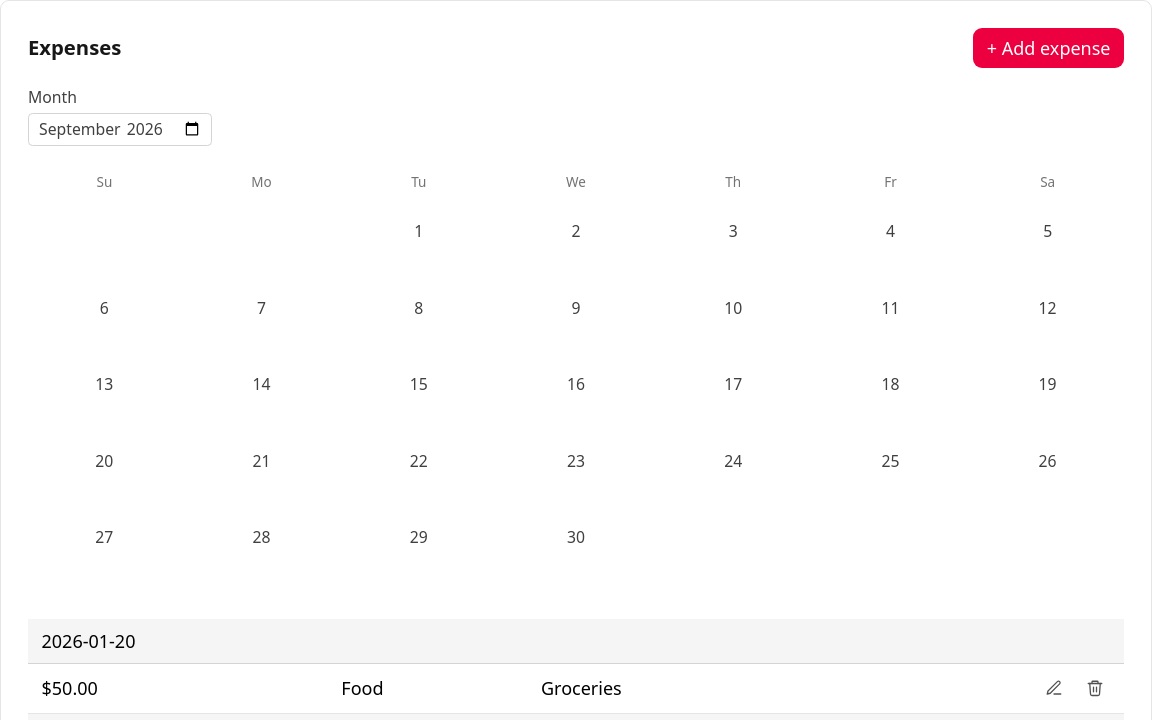
Test: ExpenseLog › saves an edited expense via PATCH, through the edit modal
Replace the text in the field labelled "Month" with "2026-01": (120, 129) left=28, top=113, right=212, bottom=146
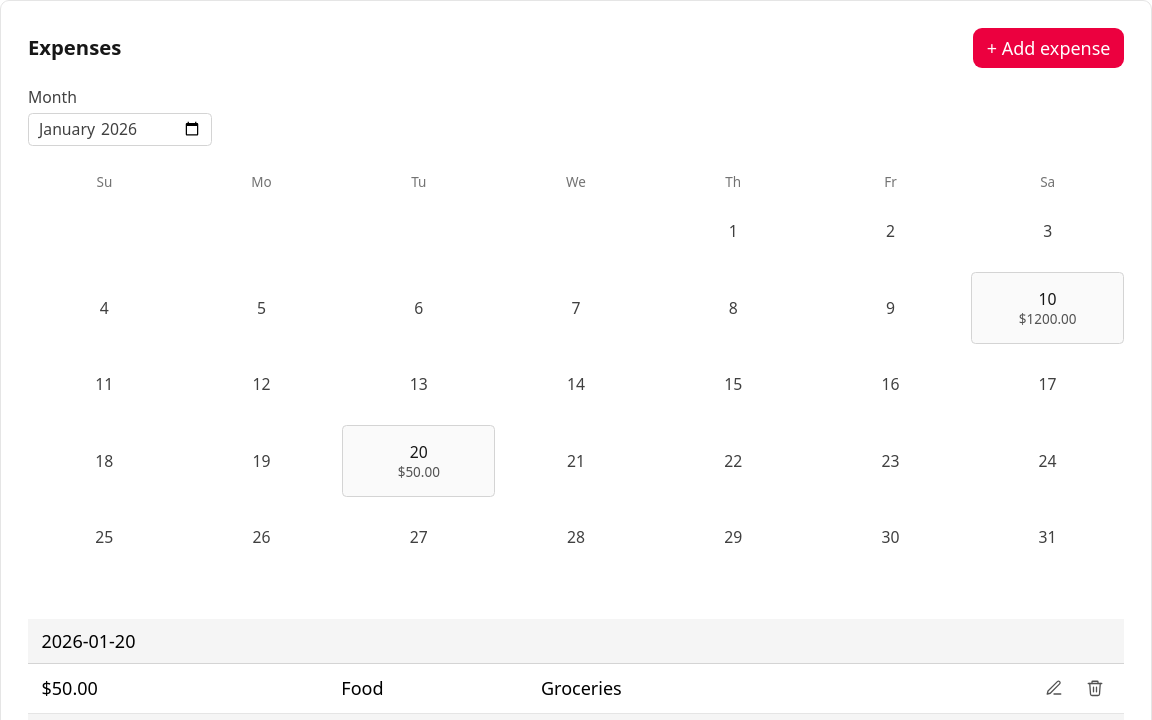
Click the button named "Edit expense": click(1054, 688) left=1038, top=673, right=1070, bottom=704
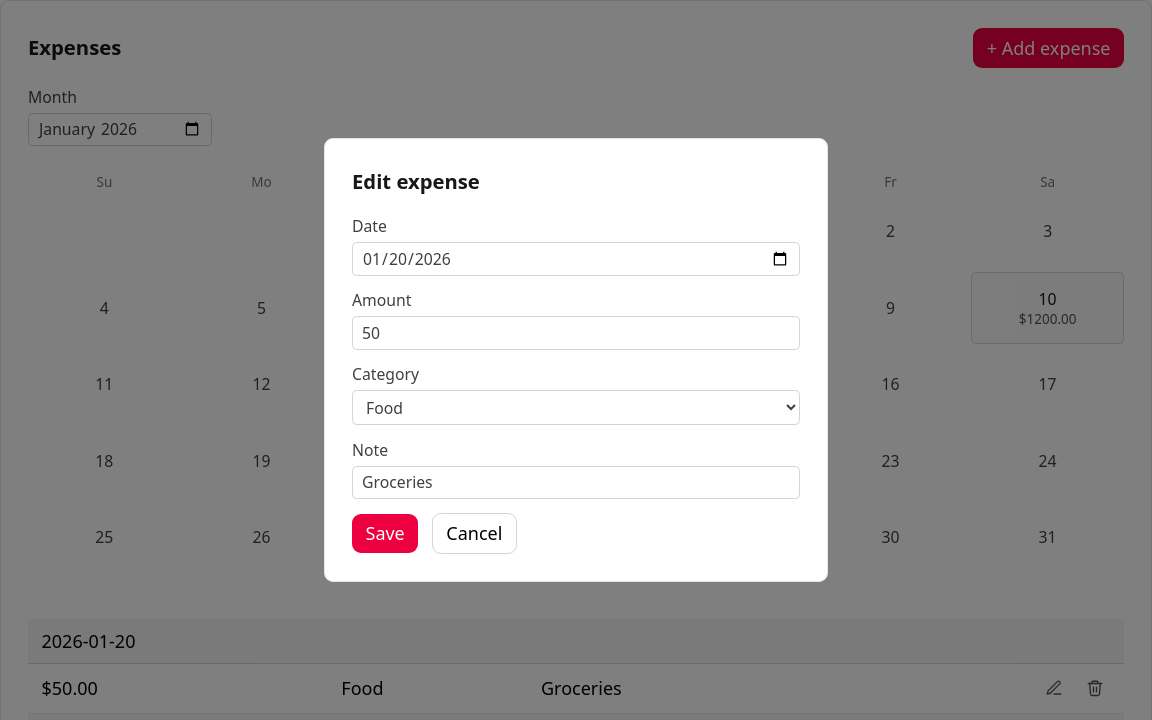
Replace the text in the number field labelled "Amount" with "65": (576, 333) left=352, top=316, right=800, bottom=350
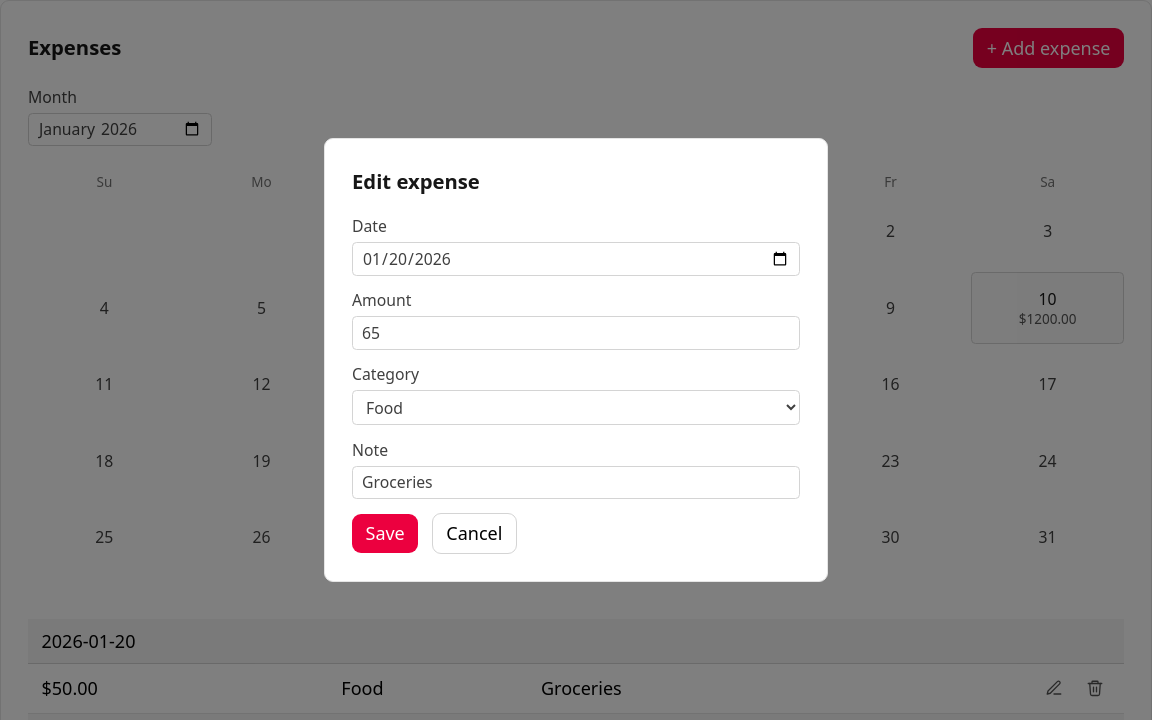
Click the button "Save": click(385, 534) left=352, top=514, right=418, bottom=553
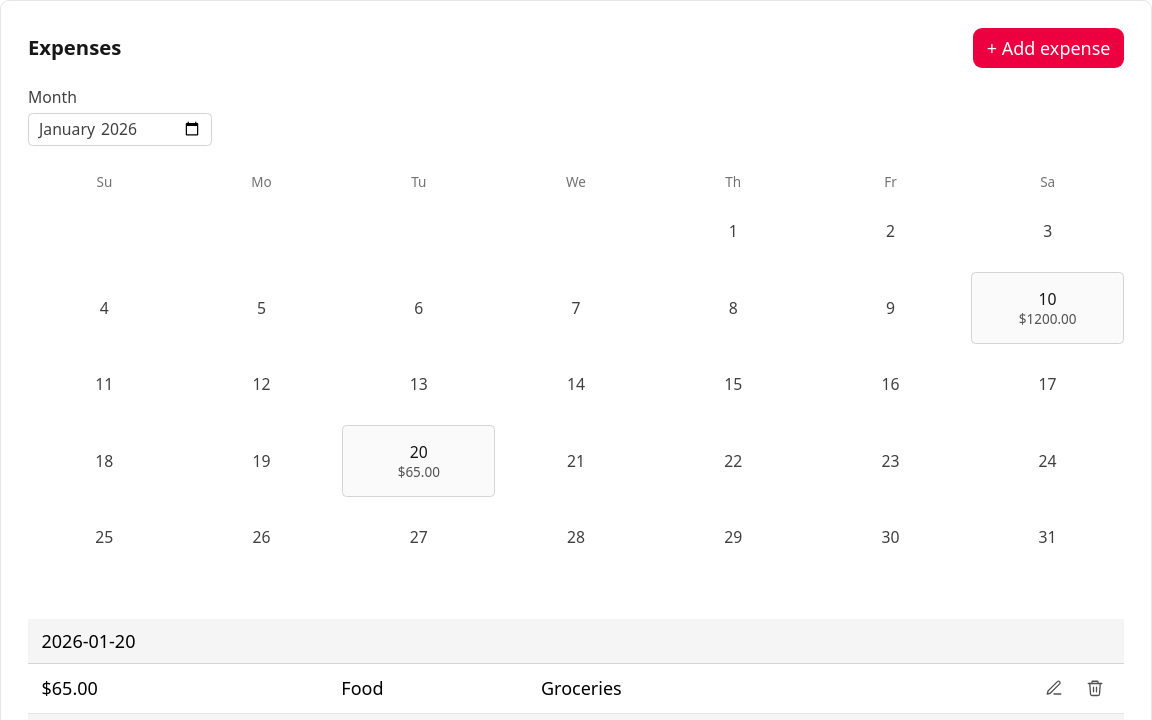
Expected: the dialog is gone
Expected: the text "$65.00" is shown, left=28, top=663, right=328, bottom=714
